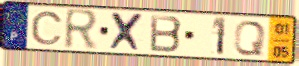1: (211, 16, 228, 58)
B: (149, 14, 184, 55)
C: (29, 10, 64, 47)
Q: (232, 19, 268, 57)
R: (63, 7, 101, 51)
X: (108, 11, 147, 54)
